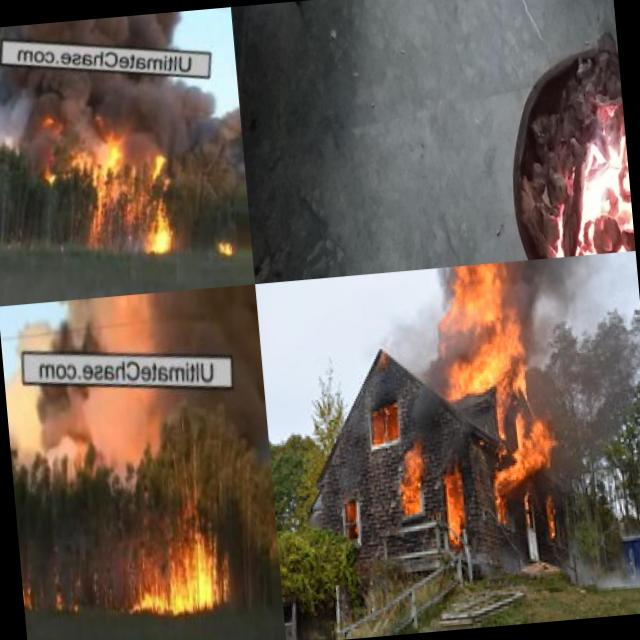fire: (536, 84, 635, 258), (434, 260, 535, 409), (126, 530, 239, 620), (488, 420, 554, 504), (76, 146, 163, 204), (396, 441, 431, 526), (437, 470, 470, 550), (140, 197, 174, 255), (56, 586, 84, 612), (215, 235, 242, 259), (544, 500, 560, 540), (22, 584, 41, 606)
smoke: (0, 82, 224, 163), (514, 314, 636, 418), (7, 394, 148, 468), (541, 410, 640, 488), (500, 254, 602, 322), (402, 346, 461, 448), (565, 549, 640, 597)
